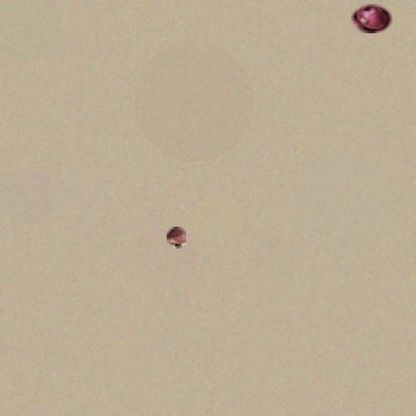healthy: (351, 4, 392, 33)
sprouted: (167, 227, 186, 249)
